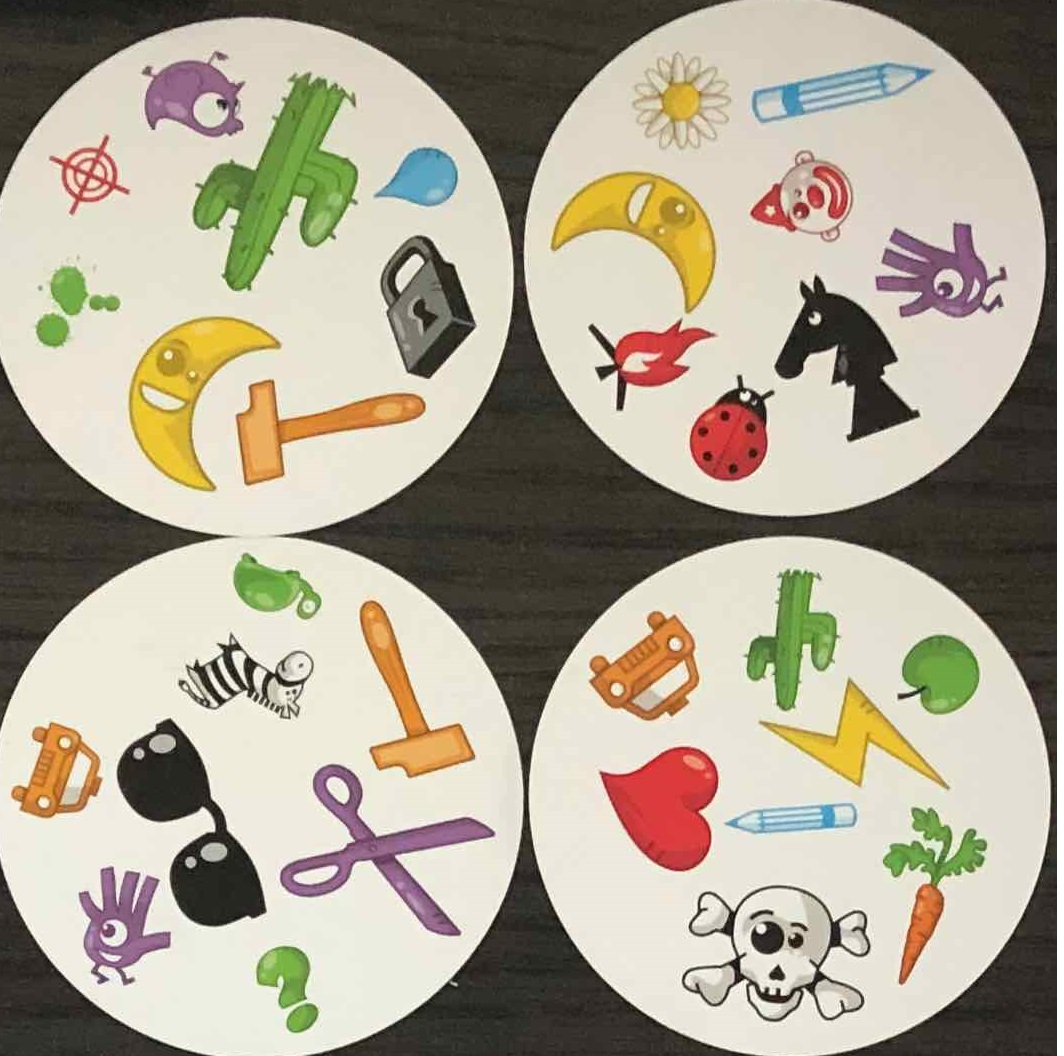cactus: (189, 68, 366, 289), (741, 563, 836, 703)
cadenas: (370, 234, 479, 375)
carotte: (874, 801, 993, 988)
cheval: (772, 274, 922, 447)
cible: (45, 131, 131, 218)
ciseau: (277, 753, 497, 939)
clown: (748, 149, 865, 250)
coccinelle: (688, 373, 776, 485)
coeur: (589, 742, 720, 872)
crayon: (746, 61, 942, 125), (720, 795, 864, 846)
dooble: (64, 853, 174, 991), (876, 211, 1010, 321)
eclair: (758, 671, 951, 796)
feu: (567, 316, 714, 408)
fleur: (623, 50, 736, 151)
goutte: (371, 142, 471, 212)
lune: (118, 310, 282, 496), (539, 164, 724, 314)
lunette: (109, 714, 277, 921)
marteau: (229, 366, 430, 492), (349, 603, 478, 777)
oiseau: (133, 46, 250, 145)
point_interrogation: (249, 945, 324, 1034)
pomme: (892, 632, 981, 722)
tache: (24, 254, 128, 355)
tete_mort: (672, 880, 881, 1027)
tortue: (222, 545, 322, 623)
voiture: (573, 601, 701, 723), (7, 719, 107, 821)
zebre: (172, 627, 325, 722)
